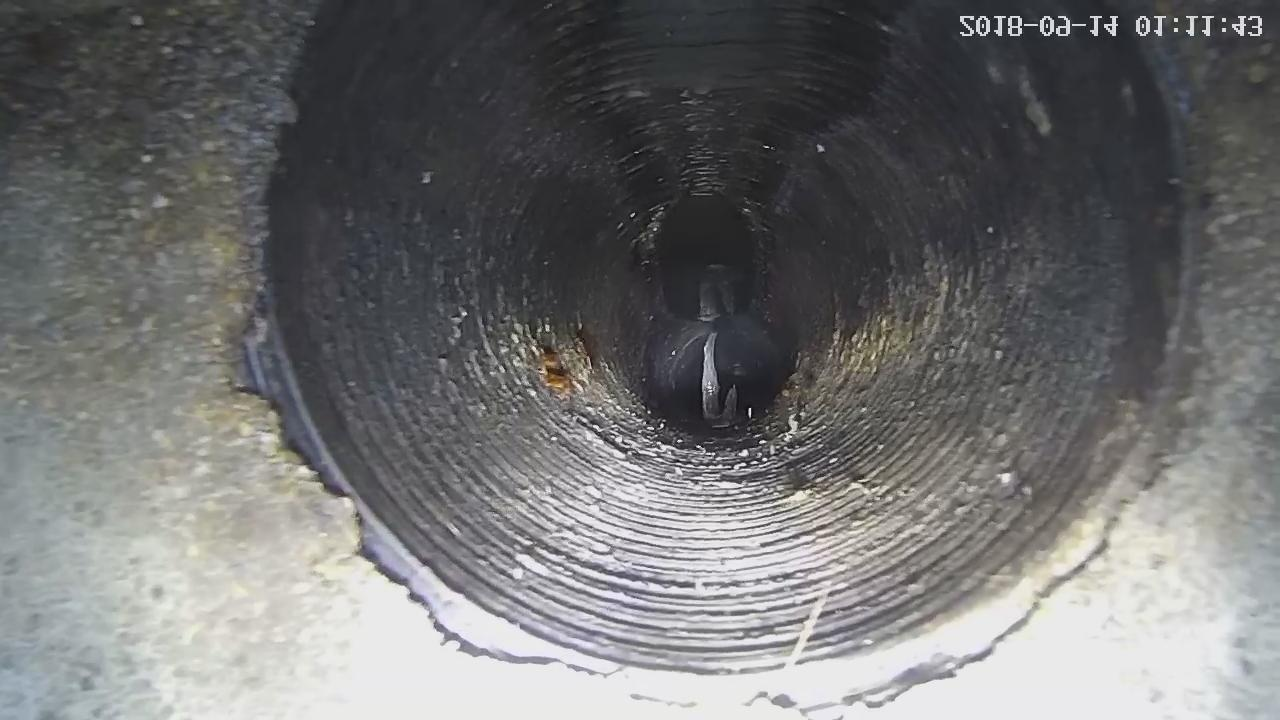YWCR: (701, 304, 737, 426)
